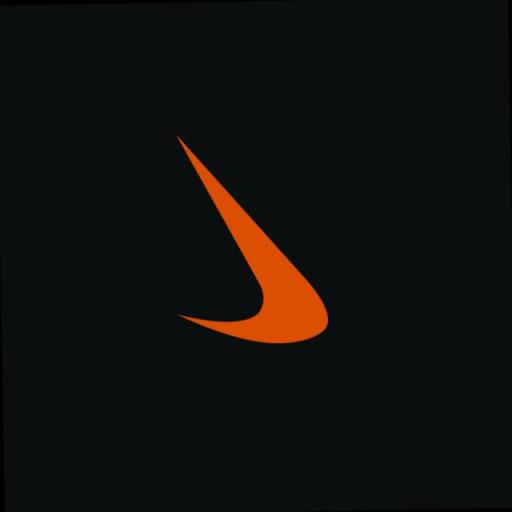Nike: (166, 129, 336, 348)
